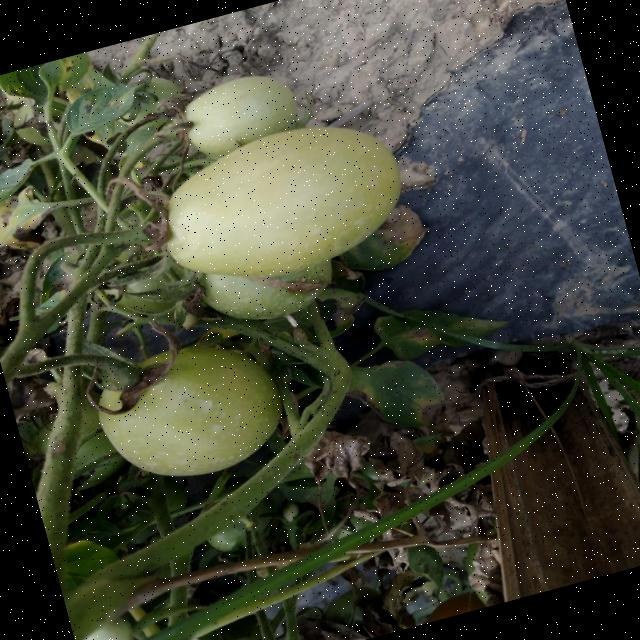Unripe: (120, 106, 418, 310), (86, 326, 292, 499)
